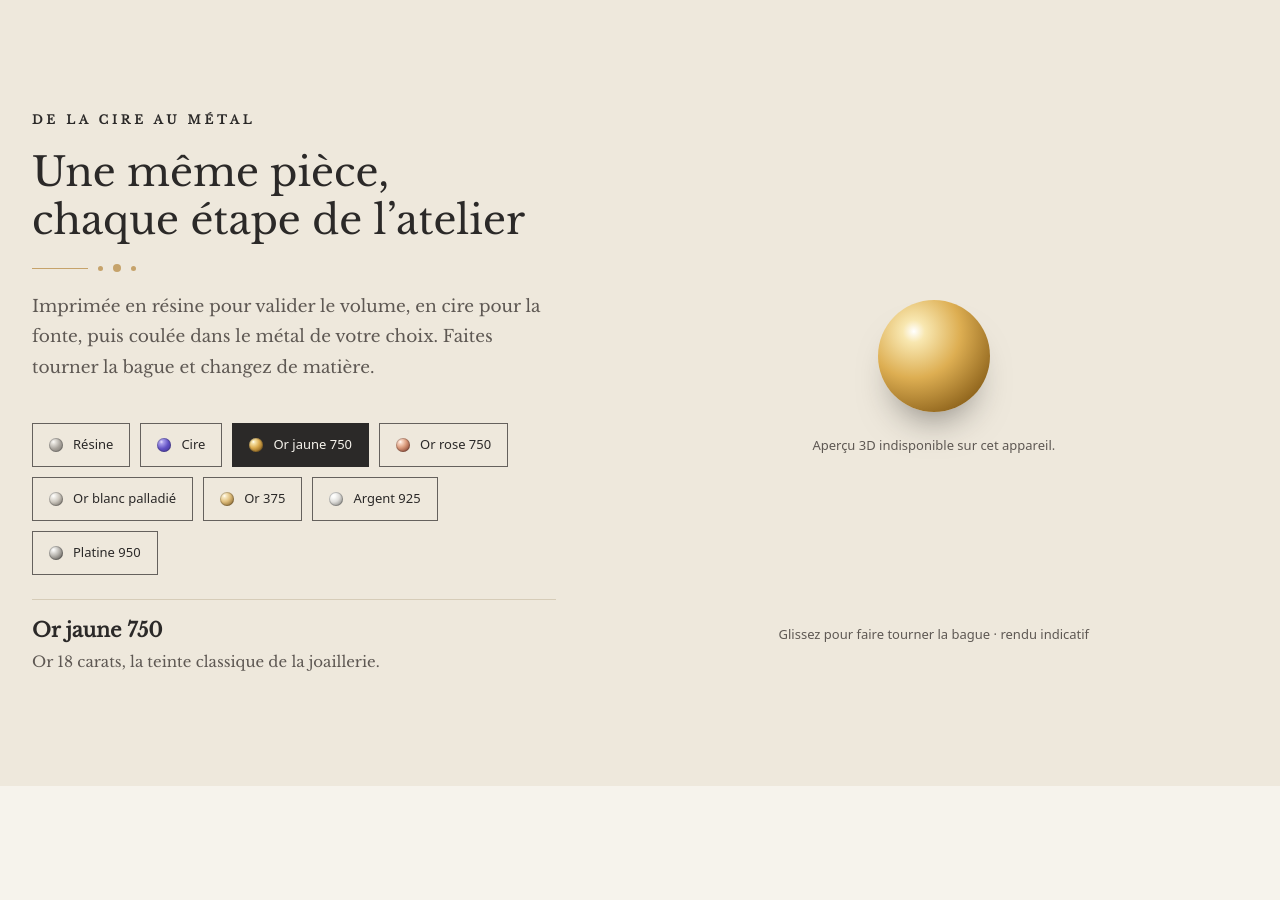
Test case: RingShowcase › switches the material and its description from the picker
Check: the text "Aperçu 3D indisponible sur cet appareil." is shown, box left=812, top=436, right=1055, bottom=454
What coordinates should you click on to do the following:
click the button "Platine 950"
I would click on:
 (95, 553)
Its box is left=32, top=531, right=158, bottom=575.
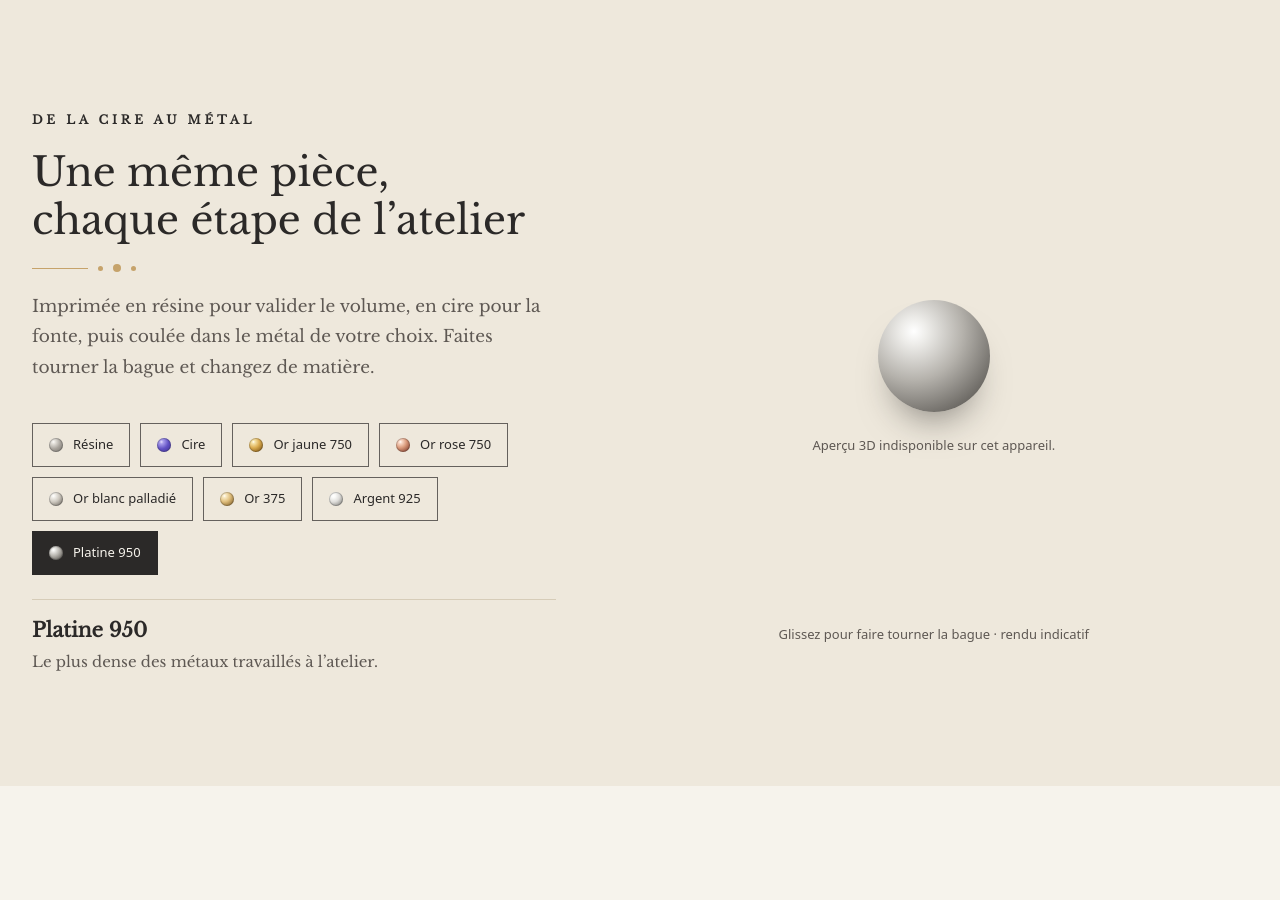
Check: the text "Le plus dense des métaux travaillés à l’atelier." is shown, box left=32, top=652, right=378, bottom=671
